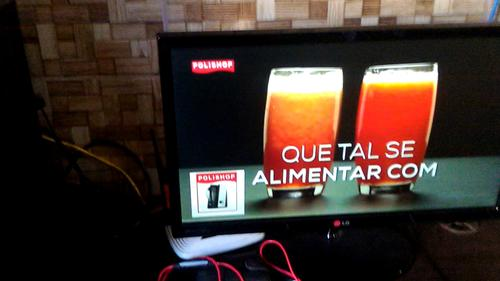Polishop #1: (189, 169, 245, 216)
